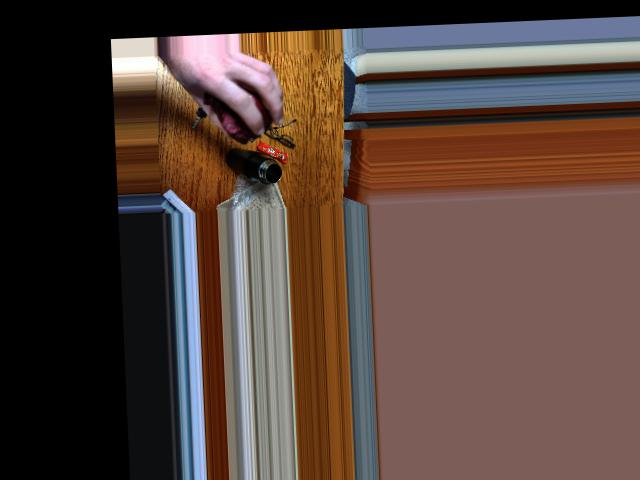onion: (219, 87, 271, 136)
